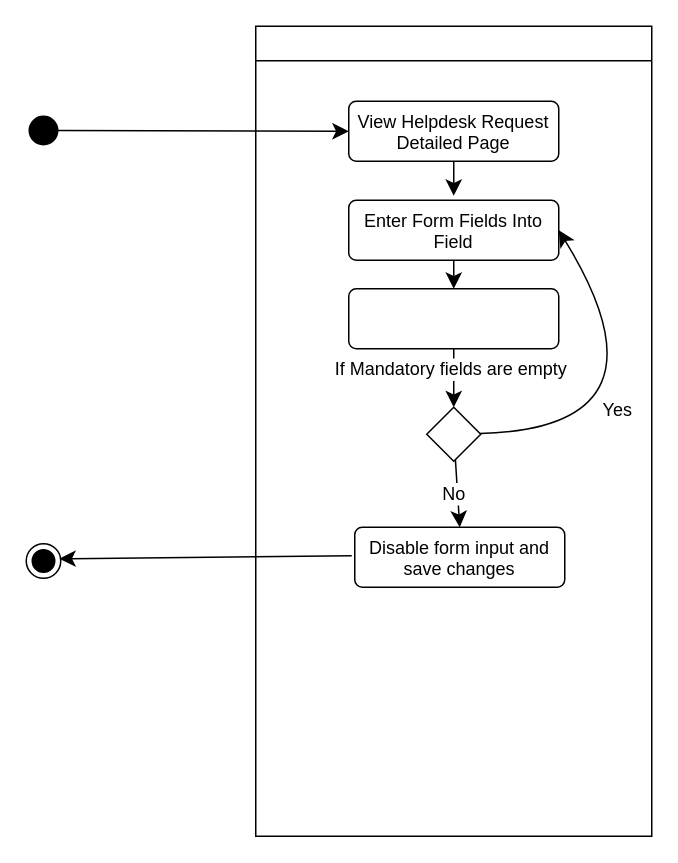
This 678x863 diagram has some shape labels left out. Here are the shapes that lost their labels. From the top down, the box of each, then its label:
(347, 287, 559, 349): Submit Form
(254, 25, 652, 836): Property Manager
